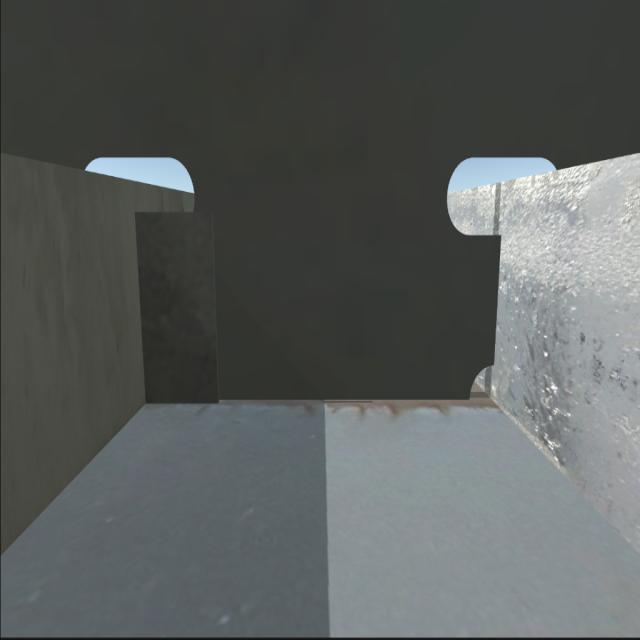fillet_hole: (466, 364, 496, 406)
fillet_yong_jeop_jang: (154, 390, 468, 406)
longi_yong_jeop_jang: (134, 214, 151, 402), (496, 233, 510, 362)
plate_CP01: (138, 219, 218, 398)
